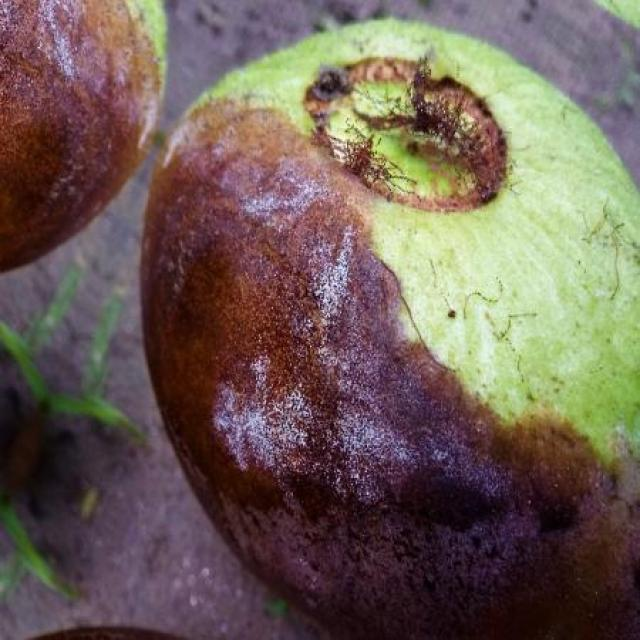Styler and Root: (141, 20, 640, 639), (141, 101, 640, 640), (0, 0, 165, 271), (0, 0, 156, 271)
